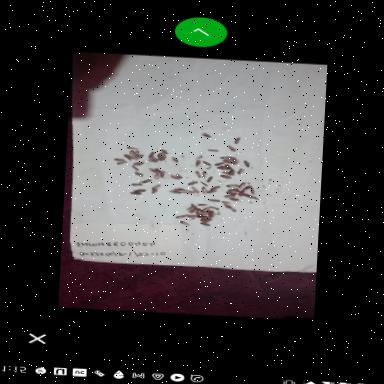pbw: (140, 178, 152, 184), (215, 166, 231, 170), (188, 180, 198, 186), (123, 154, 133, 160), (133, 154, 143, 160), (222, 203, 232, 209), (226, 145, 236, 151), (174, 214, 186, 219), (151, 184, 160, 190), (210, 185, 219, 191), (225, 184, 238, 188), (168, 190, 180, 194), (186, 214, 198, 218), (219, 174, 231, 178), (221, 160, 233, 164), (112, 158, 124, 162), (130, 182, 142, 186), (236, 168, 244, 174), (147, 152, 155, 158), (172, 188, 184, 192), (206, 198, 218, 202), (226, 188, 238, 192), (154, 168, 162, 174), (190, 203, 198, 209), (190, 187, 198, 193), (242, 160, 248, 168), (208, 210, 214, 218), (200, 218, 212, 222), (132, 162, 143, 166), (116, 160, 127, 164), (223, 194, 234, 198), (134, 189, 145, 193), (234, 137, 240, 144), (150, 188, 156, 195), (237, 190, 244, 196), (160, 148, 167, 154), (238, 182, 245, 188), (181, 190, 191, 194), (179, 222, 189, 226), (170, 175, 180, 179), (213, 162, 223, 166), (228, 197, 238, 201), (202, 161, 210, 166), (200, 222, 210, 226), (208, 206, 218, 210), (206, 190, 216, 194), (242, 186, 252, 190), (134, 172, 143, 176), (128, 150, 134, 156), (228, 170, 234, 176), (194, 172, 200, 178), (156, 154, 162, 160), (130, 192, 142, 195), (126, 147, 138, 150), (206, 176, 212, 182), (200, 181, 207, 186), (197, 216, 208, 219), (207, 149, 218, 152), (196, 208, 200, 216), (170, 158, 178, 162), (195, 160, 200, 166), (250, 188, 255, 194), (159, 172, 164, 178), (202, 171, 206, 178), (131, 166, 138, 170), (175, 174, 182, 178), (224, 192, 237, 194), (150, 169, 156, 173), (154, 173, 158, 179), (134, 150, 138, 156), (220, 201, 230, 203), (197, 204, 206, 206)
